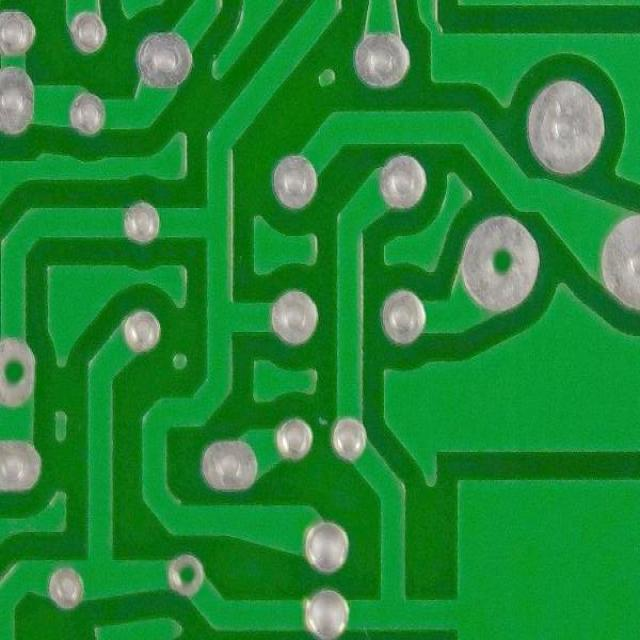missing hole: (453, 210, 546, 318), (0, 330, 40, 412), (164, 549, 208, 599)
